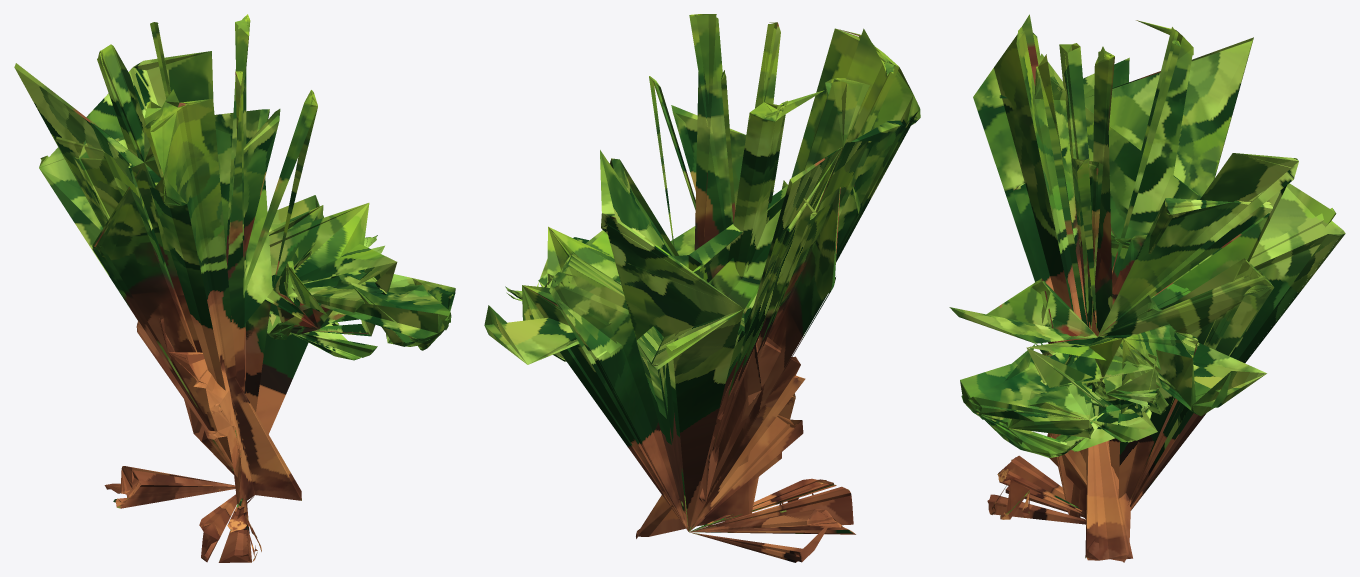
The picture shows the model from 3 angles, left to right: view 1: azimuth 30°, elevation 25°; view 2: azimuth 150°, elevation 25°; view 3: azimuth 270°, elevation 25°; orthographic projection. The views are drawn at different scales.
Bounding box in the file's own units: 0.6269 × 0.8844 × 0.652.
Materials: 1 (1 with a texture image).
